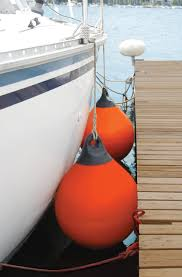buoy: (52, 160, 137, 249), (82, 107, 135, 161)
